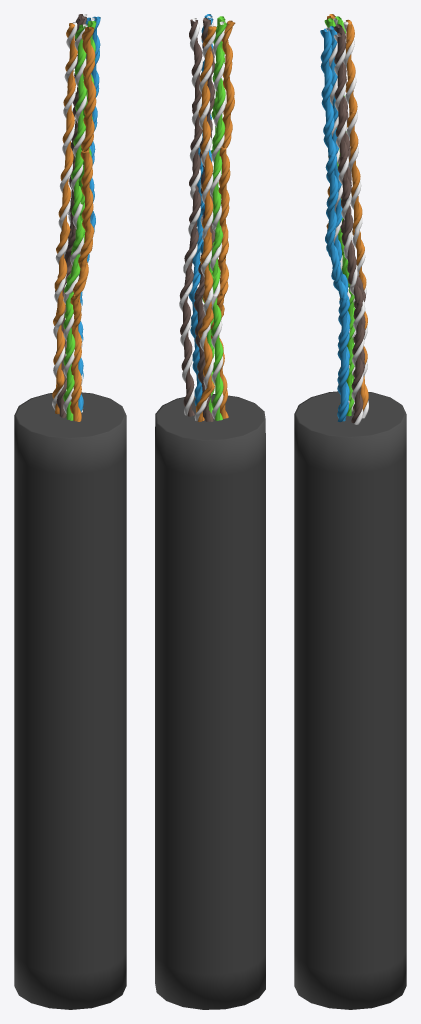
The model's file is CableBeforeTrim.fbx.
3 views of the same model, side by side, from view 1: azimuth 90°, elevation 25°; view 2: azimuth 150°, elevation 25°; view 3: azimuth 270°, elevation 25° (orthographic).
Visible parts, largest first — view 1: Circle.027, Circle.024, Circle.028, Circle.033, Circle.018, Circle.020, Circle.032, Circle.031; view 2: Circle.027, Circle.028, Circle.029, Circle.033, Circle.024, Circle.018, Circle.020, Circle.032; view 3: Circle.027, Circle.020, Circle.029, Circle.028, Circle.031, Circle.018, Circle.032.
Boxes of the visible parts, x1,y1,x2,y2 form: Circle.027: (14, 392, 126, 1009); Circle.024: (70, 27, 96, 421); Circle.028: (52, 22, 77, 414); Circle.033: (63, 24, 87, 420); Circle.018: (55, 16, 86, 418); Circle.020: (79, 16, 100, 408); Circle.032: (64, 21, 96, 389); Circle.031: (78, 17, 94, 412); Circle.027: (155, 394, 265, 1009); Circle.028: (194, 24, 216, 421); Circle.029: (179, 18, 202, 416); Circle.033: (210, 21, 227, 420); Circle.024: (210, 20, 235, 418); Circle.018: (194, 18, 215, 421); Circle.020: (188, 14, 212, 405); Circle.032: (202, 16, 225, 413); Circle.027: (294, 391, 406, 1009); Circle.020: (320, 28, 350, 422); Circle.029: (334, 33, 365, 424); Circle.028: (343, 19, 368, 418); Circle.031: (326, 26, 350, 417); Circle.018: (334, 24, 365, 414); Circle.032: (324, 18, 354, 416).
Size of the model in its own units: 0.0191 by 0.1814 by 0.0191.
